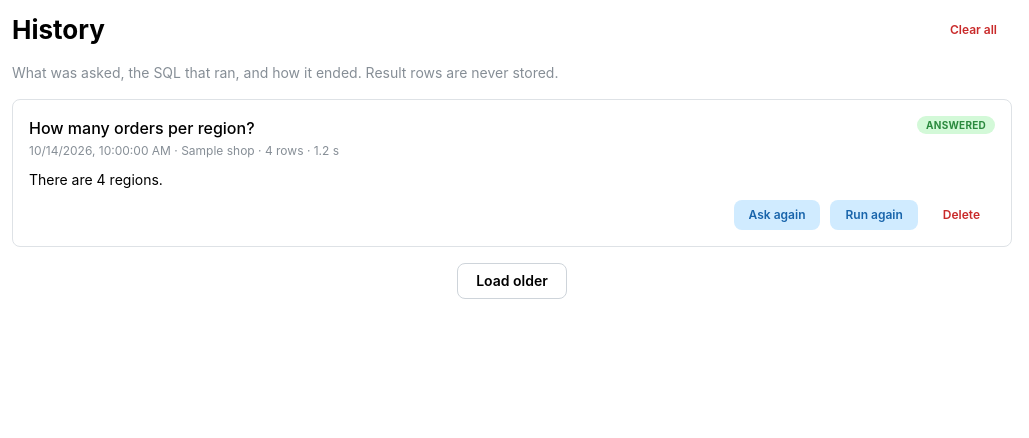
Test: HistoryPage › lists entries with their status and connection, and loads older ones
Expected: the text "How many orders per region?" is shown, [29, 118, 255, 138]
Expected: the text "Answered" is shown, [926, 117, 986, 133]
Click the button "Load older" at (512, 281), box [457, 263, 567, 299]
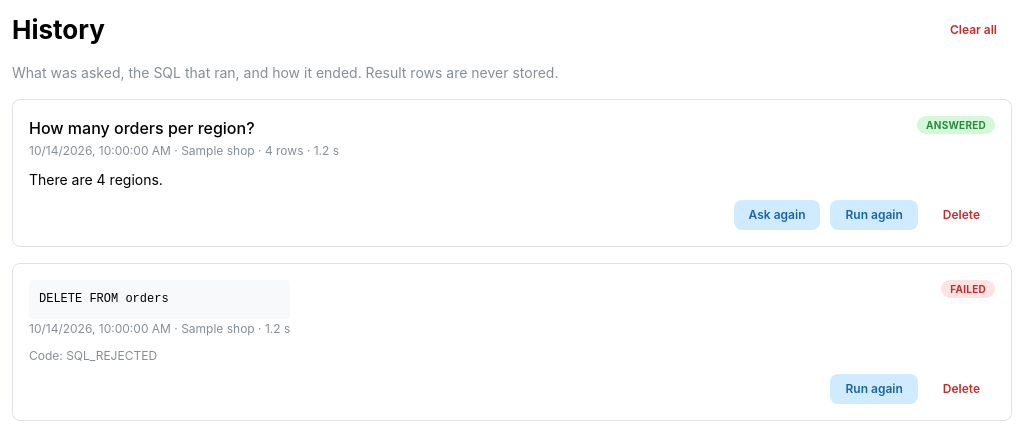
Expected: the text "DELETE FROM orders" is shown, [29, 280, 290, 319]
Expected: the text "Code: SQL_REJECTED" is shown, [29, 348, 157, 363]
Expected: the button "Load older" is gone
